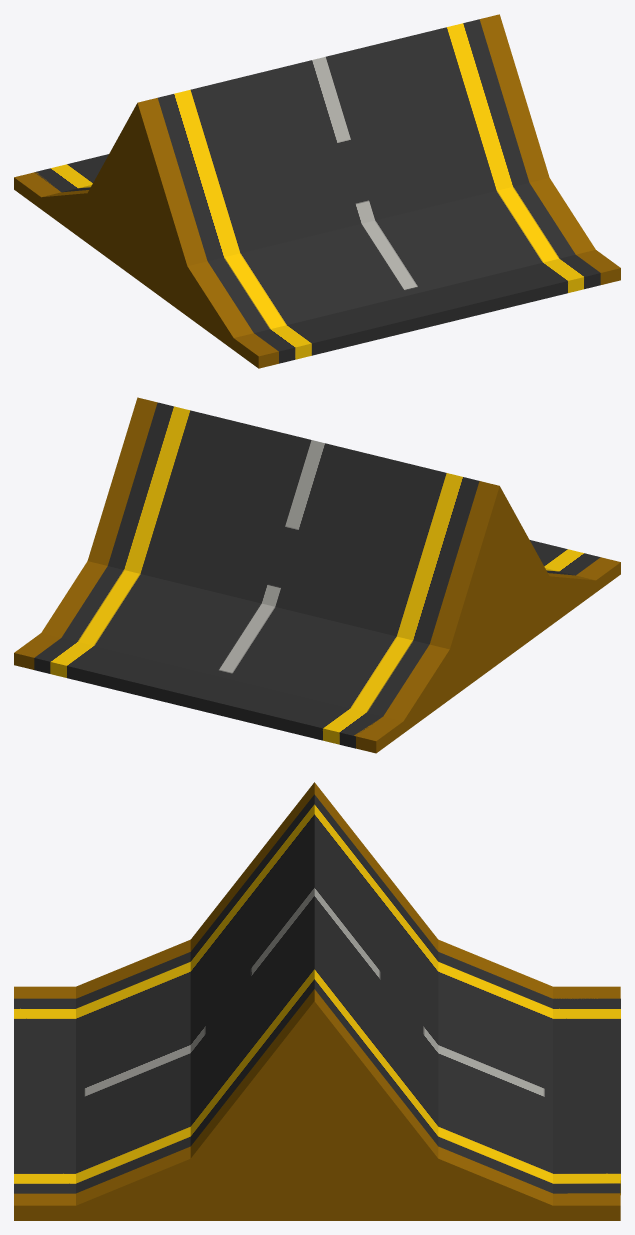
Rendered from pista03.fbx.
3 renders of one model, top to bottom at view 1: azimuth 30°, elevation 25°; view 2: azimuth 150°, elevation 25°; view 3: azimuth 270°, elevation 25°, orthographic. The views are drawn at different scales.
Visible parts, largest first — view 1: pista03; view 2: pista03; view 3: pista03.
Boxes of the visible parts, x1,y1,x2,y2 form: pista03: [14, 14, 620, 368]; pista03: [14, 397, 620, 753]; pista03: [14, 782, 620, 1220].
Bounding box in the file's own units: 2539 × 1187 × 2972.
Materials: 1 (1 with a texture image).
